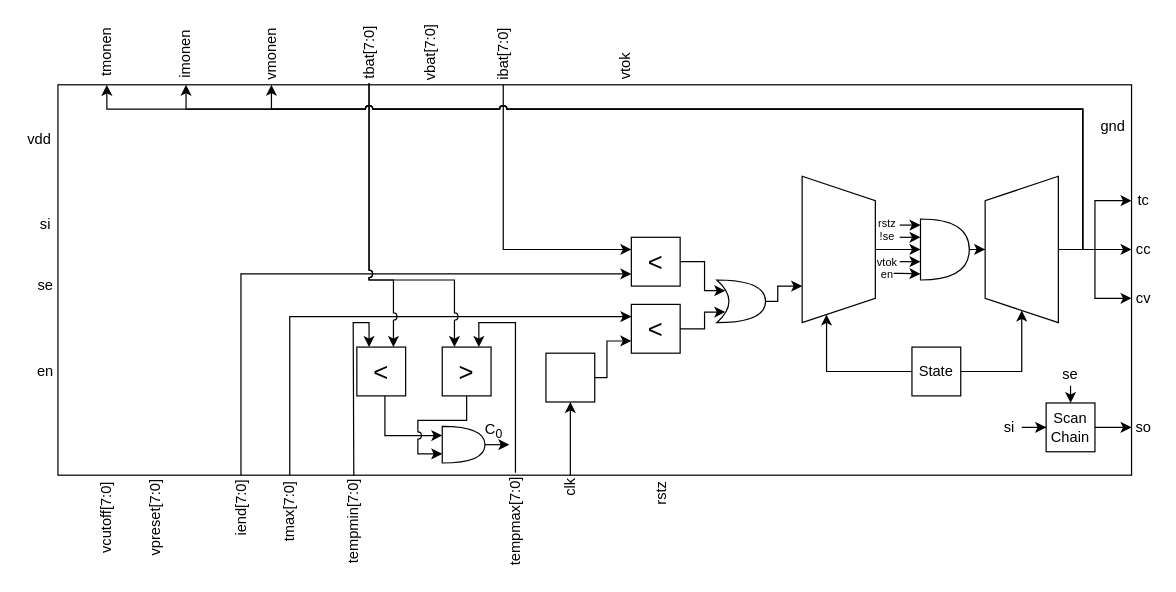
Some shapes in this 1176 by 592 pixel diagram are drawn without their labels. Here are the shapes that lost their labels. From the top down, the centre of each, then its label:
At point 838,249: "State Output Logic".
At point 1021,249: "Output Mux".
At point 570,377: "Timer".
